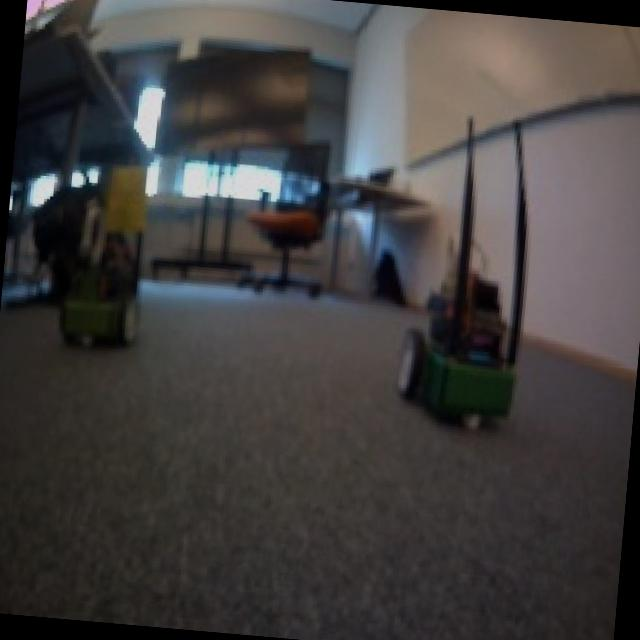robot: (386, 271, 530, 439), (50, 250, 148, 354)
